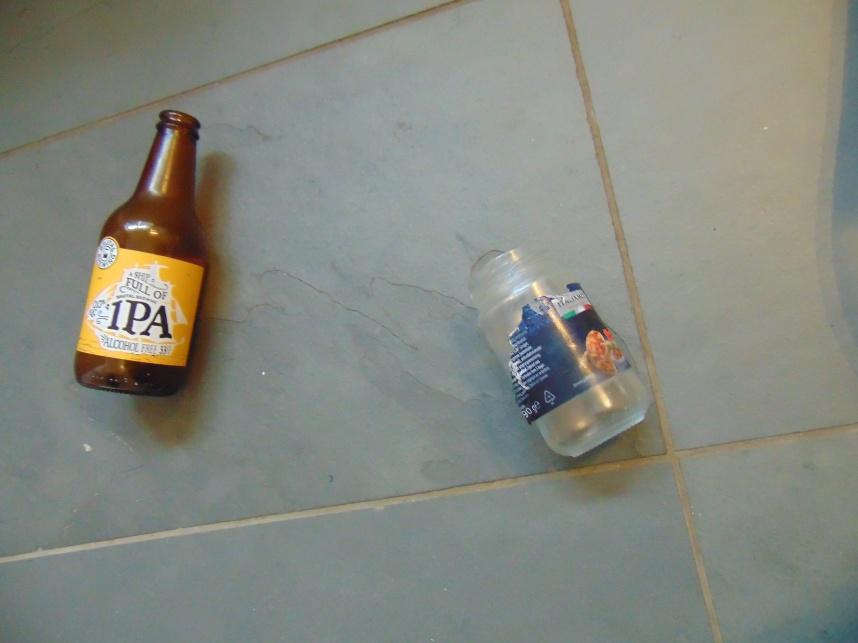glass_bottle: (467, 242, 649, 461), (74, 108, 205, 396)
